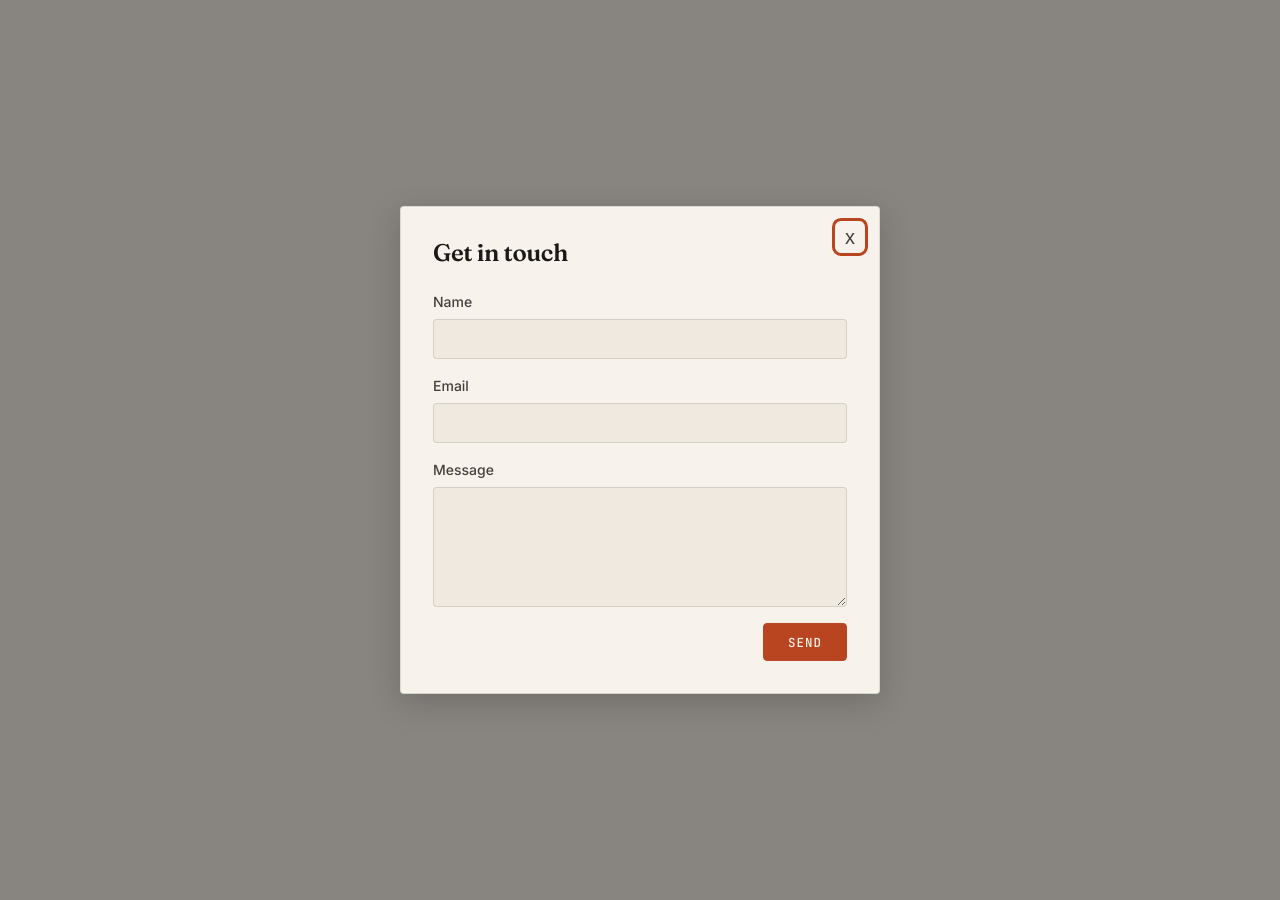
Scenario: ContactForm › submits the form and shows the success state
The width and height of the screenshot is (1280, 900).
Type "Ada" into the field labelled "Name" at (640,339), box x1=433 y1=318 x2=847 y2=359
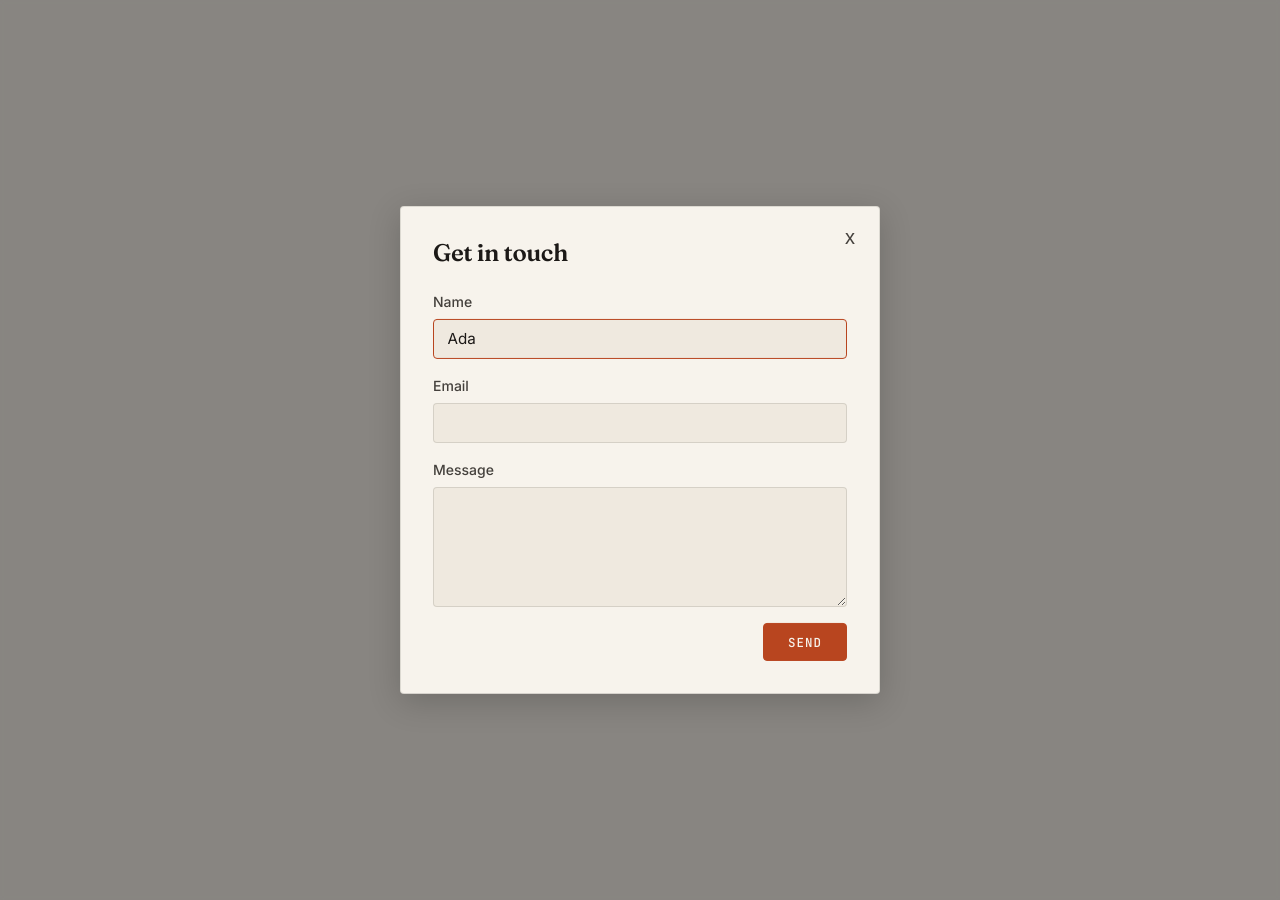
Type "ada@example.com" into the field labelled "Email" at (640,423), box x1=433 y1=403 x2=847 y2=443
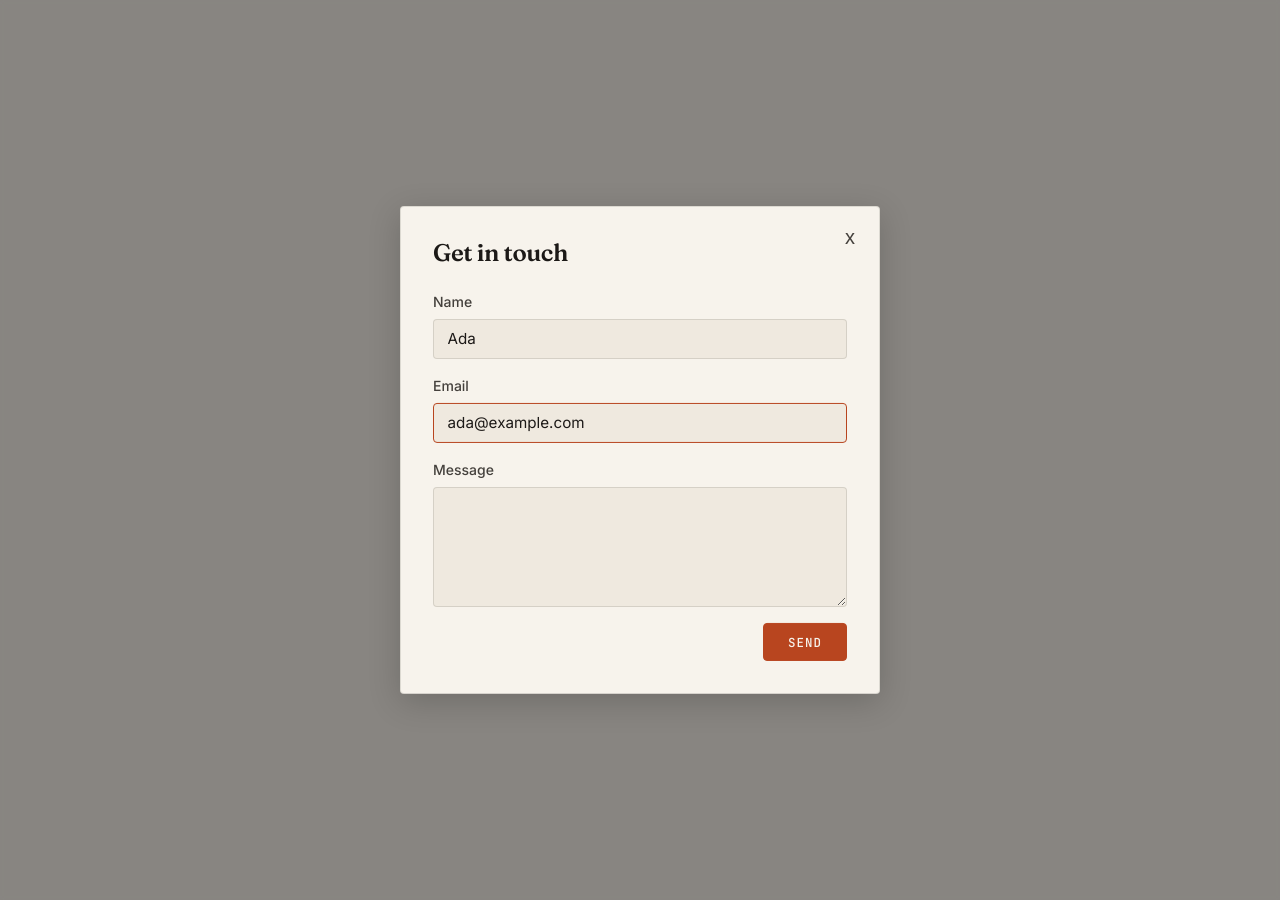
Type "Hello" into the text box labelled "Message" at (640,547), box x1=433 y1=487 x2=847 y2=607
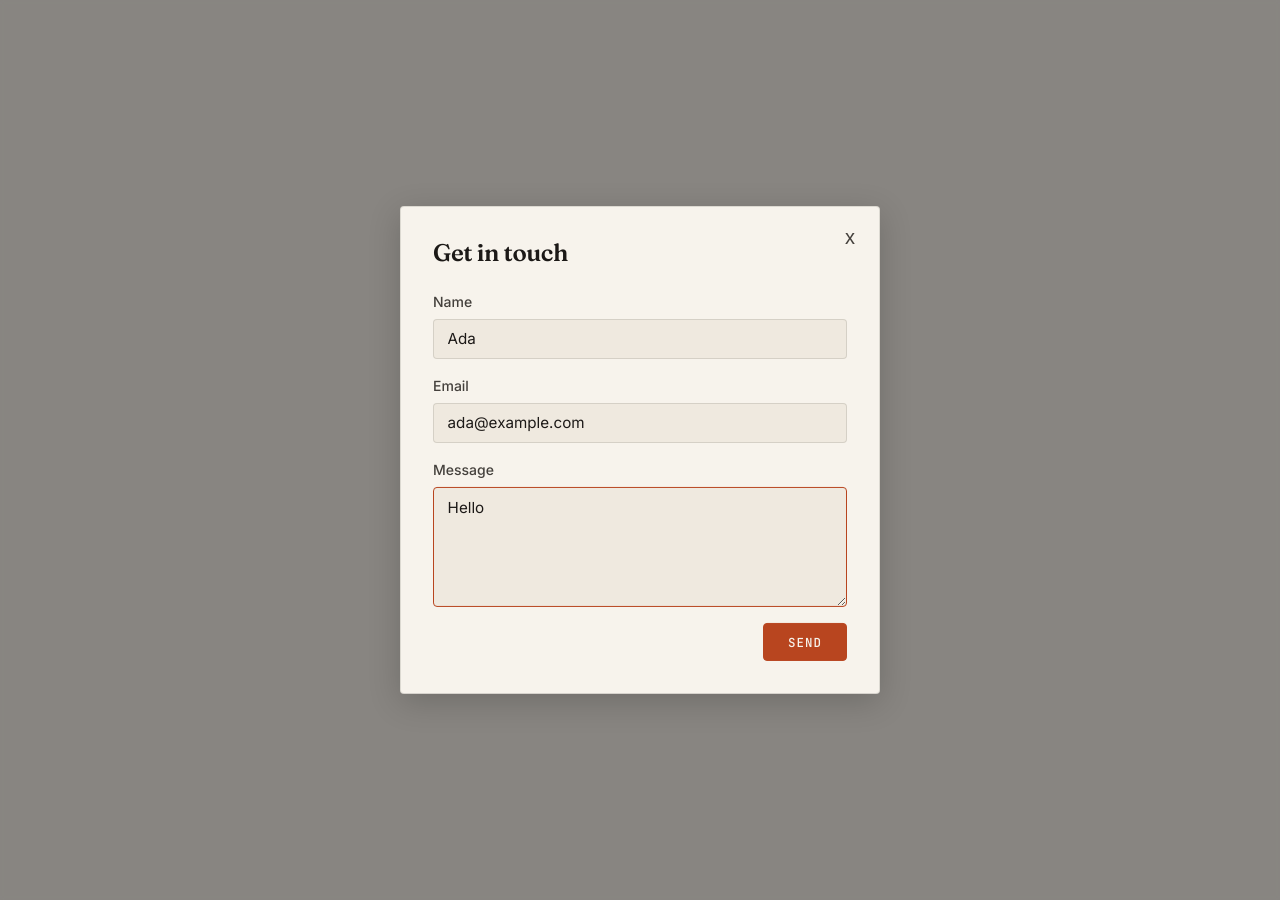
Click the button "Send" at (805,642), box x1=763 y1=623 x2=847 y2=661
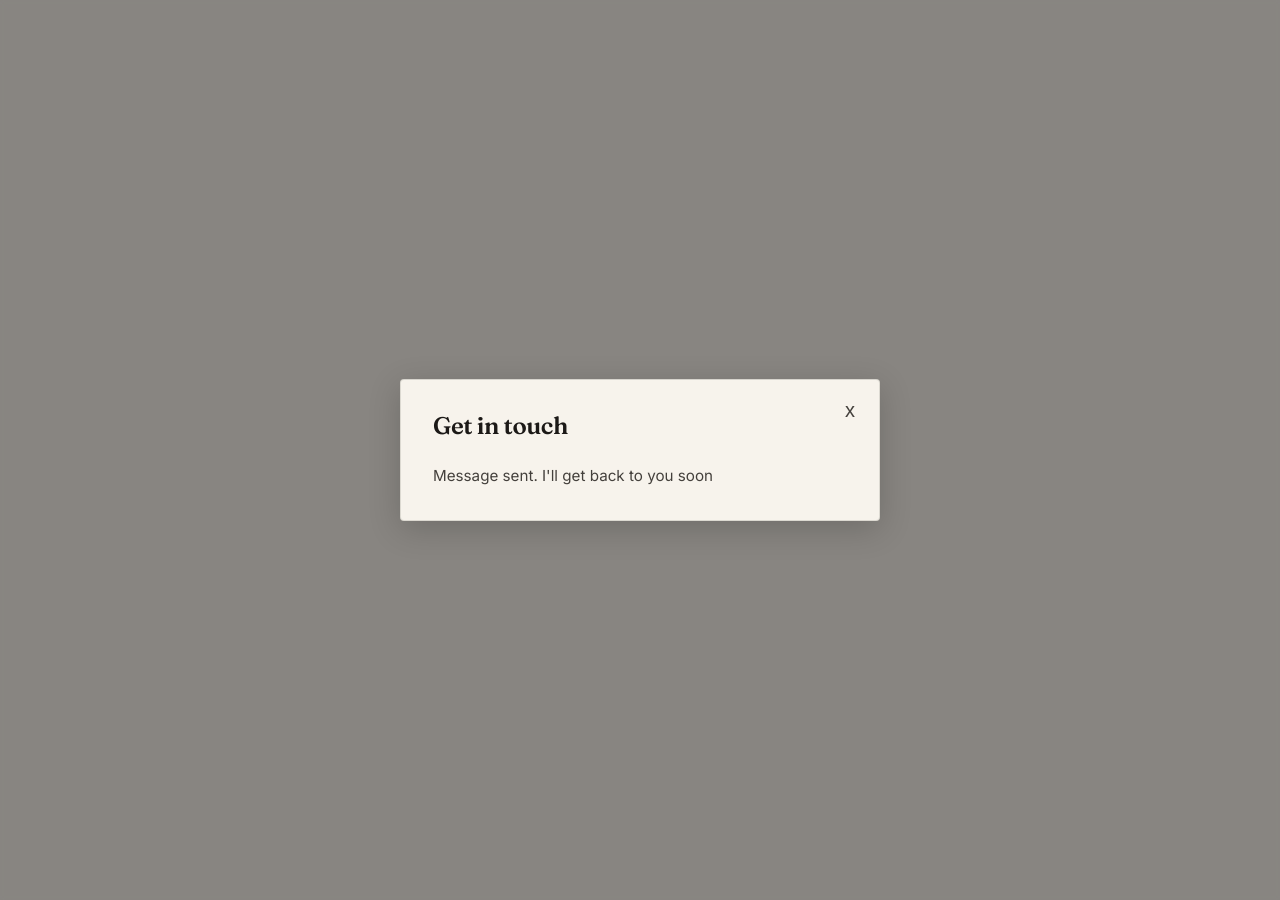
Expected: the text "Message sent. I'll get back to you soon" is shown, x1=433 y1=466 x2=713 y2=485
